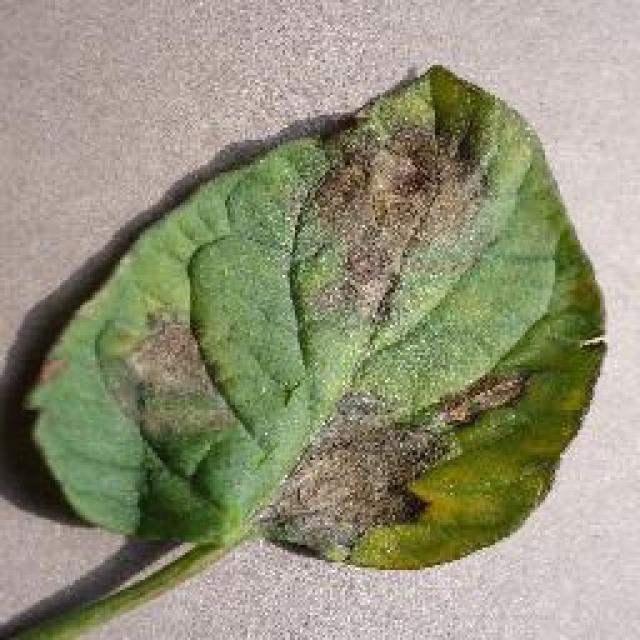Tomato late blight leaf: (34, 66, 604, 584)
